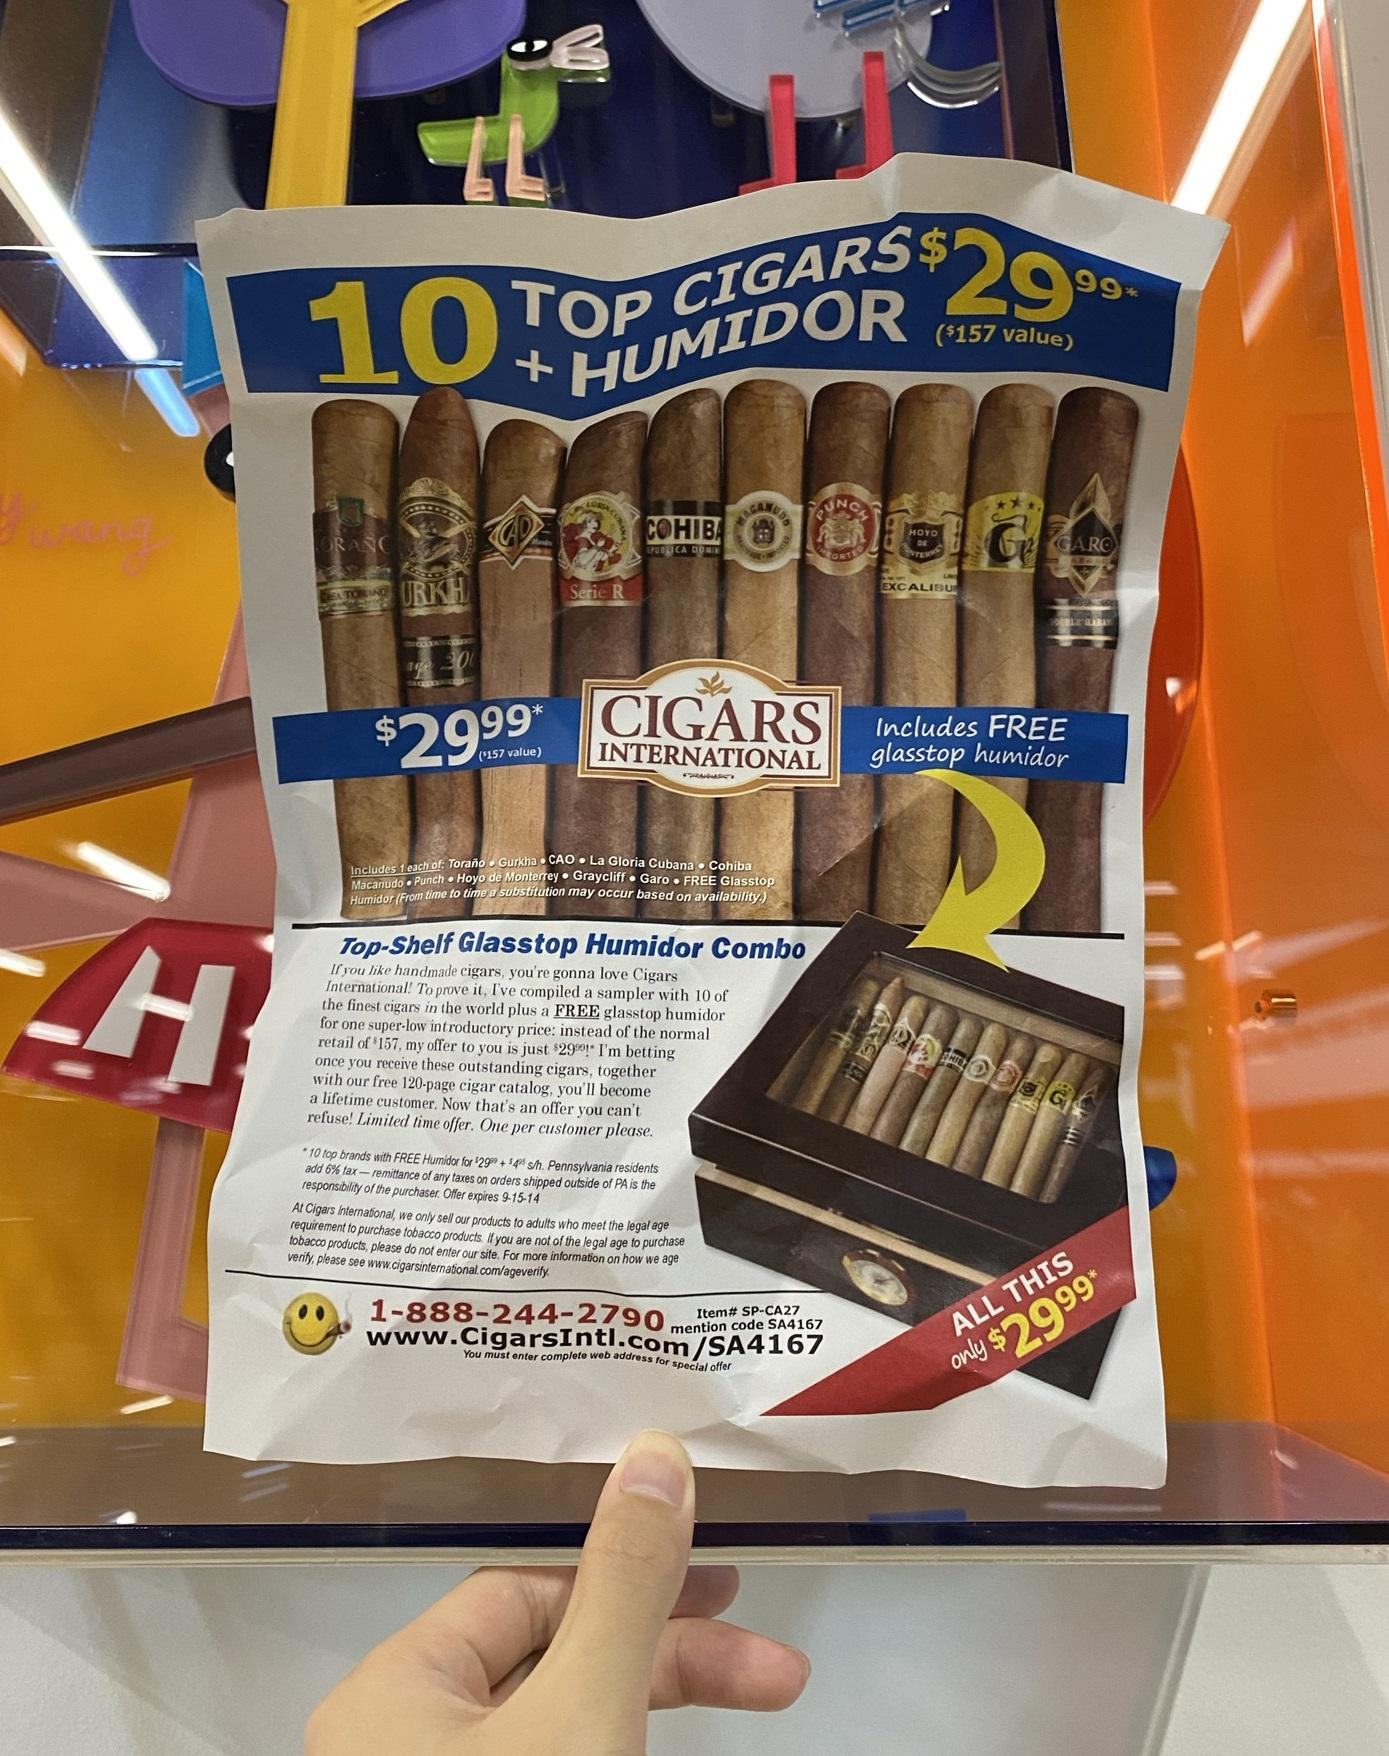paper: (73, 127, 1389, 1743)
